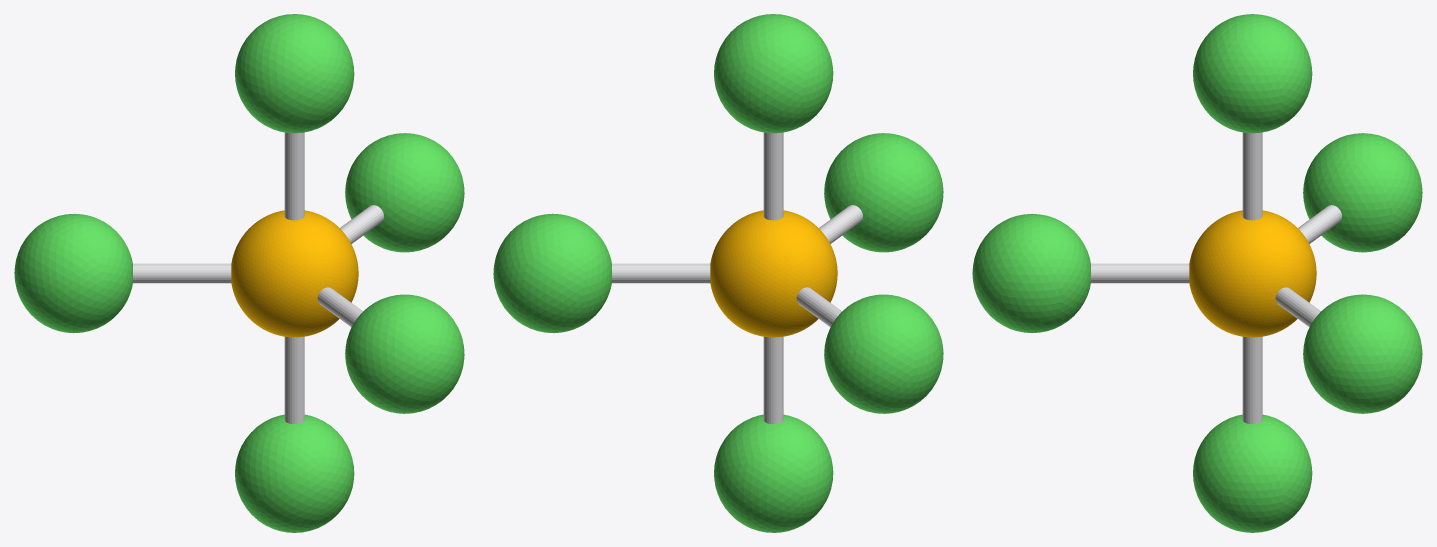
Rendered from PCl5.glb.
3 views of the same model, side by side, from view 1: azimuth 30°, elevation 25°; view 2: azimuth 150°, elevation 25°; view 3: azimuth 270°, elevation 25° (orthographic).
Parts seen in each view (by area): view 1: P_centre, Cl_2, Cl_0, Cl_3, Cl_1, Cl_4, bond_3, bond_0, bond_1, bond_2, bond_4; view 2: P_centre, Cl_3, Cl_0, Cl_4, Cl_1, Cl_2, bond_4, bond_0, bond_1, bond_3, bond_2; view 3: P_centre, Cl_4, Cl_0, Cl_2, Cl_1, Cl_3, bond_2, bond_0, bond_1, bond_4, bond_3.
Part boxes in pixels (x1=…): P_centre: x1=231, y1=210, x2=358, y2=337; Cl_2: x1=345, y1=294, x2=464, y2=413; Cl_0: x1=235, y1=14, x2=354, y2=133; Cl_3: x1=14, y1=213, x2=132, y2=333; Cl_1: x1=235, y1=414, x2=354, y2=532; Cl_4: x1=345, y1=133, x2=464, y2=252; bond_3: x1=133, y1=263, x2=231, y2=283; bond_0: x1=284, y1=132, x2=304, y2=220; bond_1: x1=284, y1=336, x2=304, y2=424; bond_2: x1=317, y1=287, x2=362, y2=327; bond_4: x1=340, y1=205, x2=383, y2=243; P_centre: x1=710, y1=210, x2=837, y2=337; Cl_3: x1=824, y1=294, x2=943, y2=413; Cl_0: x1=714, y1=14, x2=833, y2=133; Cl_4: x1=493, y1=213, x2=611, y2=333; Cl_1: x1=714, y1=414, x2=833, y2=532; Cl_2: x1=824, y1=133, x2=943, y2=252; bond_4: x1=612, y1=263, x2=710, y2=283; bond_0: x1=763, y1=132, x2=783, y2=220; bond_1: x1=763, y1=336, x2=783, y2=423; bond_3: x1=796, y1=287, x2=841, y2=327; bond_2: x1=819, y1=205, x2=862, y2=243; P_centre: x1=1189, y1=210, x2=1316, y2=337; Cl_4: x1=1303, y1=294, x2=1422, y2=413; Cl_0: x1=1193, y1=14, x2=1312, y2=133; Cl_2: x1=972, y1=213, x2=1090, y2=333; Cl_1: x1=1193, y1=414, x2=1312, y2=532; Cl_3: x1=1303, y1=133, x2=1422, y2=252; bond_2: x1=1090, y1=263, x2=1189, y2=283; bond_0: x1=1242, y1=132, x2=1262, y2=220; bond_1: x1=1242, y1=336, x2=1262, y2=424; bond_4: x1=1275, y1=287, x2=1320, y2=327; bond_3: x1=1298, y1=205, x2=1341, y2=243.
Size of the model in its own units: 0.3525 by 0.394 by 0.3165.
